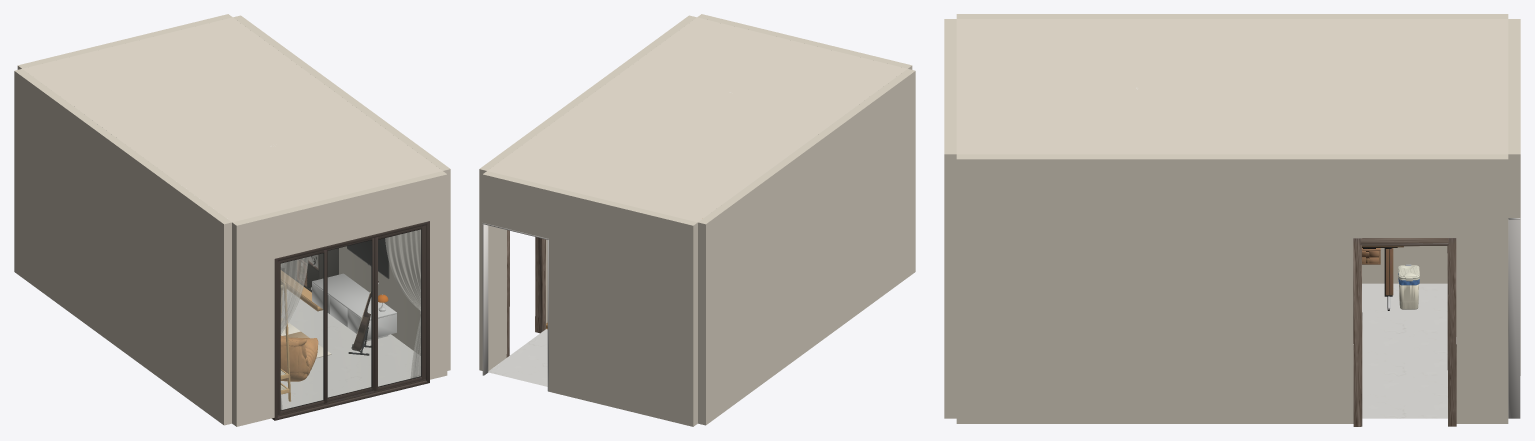
The model's file is living-room.glb.
3 views of the same model, side by side, from view 1: azimuth 30°, elevation 25°; view 2: azimuth 150°, elevation 25°; view 3: azimuth 270°, elevation 25° (orthographic). The views are drawn at different scales.
Visible parts, largest first — view 1: Wall 1, Ceiling, Wall 2, Wall 3, Floor, Part.012, Part.010, Part.009, Part.011, Part, Part.037, Part.038 (+7 smaller); view 2: Wall 1, Ceiling, Wall 4, Wall 3, Floor, Part.021, Part.013, Wall 2; view 3: Wall 3, Ceiling, Floor, Wall 2, Wall 1, Part.013, Wall 4, Part.021, Part.032, Part.006.
Boxes of the visible parts, left/top/right/bottom form: Wall 1: left=14, top=69, right=231, bottom=425; Ceiling: left=22, top=17, right=442, bottom=222; Wall 2: left=232, top=171, right=447, bottom=426; Wall 3: left=233, top=15, right=450, bottom=370; Floor: left=280, top=289, right=420, bottom=409; Part.012: left=272, top=221, right=429, bottom=420; Part.010: left=328, top=240, right=371, bottom=397; Part.009: left=378, top=230, right=420, bottom=386; Part.011: left=281, top=253, right=323, bottom=409; Part: left=312, top=273, right=396, bottom=341; Part.037: left=385, top=229, right=420, bottom=378; Part.038: left=280, top=335, right=318, bottom=381; Wall 1: left=698, top=69, right=915, bottom=425; Ceiling: left=487, top=17, right=907, bottom=222; Wall 4: left=482, top=171, right=697, bottom=426; Wall 3: left=479, top=15, right=696, bottom=370; Floor: left=488, top=329, right=547, bottom=386; Part.021: left=482, top=223, right=548, bottom=391; Part.013: left=506, top=230, right=545, bottom=357; Wall 2: left=697, top=14, right=912, bottom=69; Wall 3: left=956, top=154, right=1508, bottom=423; Ceiling: left=956, top=19, right=1508, bottom=154; Floor: left=1353, top=283, right=1456, bottom=418; Wall 2: left=944, top=19, right=956, bottom=418; Wall 1: left=956, top=14, right=1508, bottom=283; Part.013: left=1353, top=238, right=1456, bottom=426; Wall 4: left=1508, top=19, right=1520, bottom=375; Part.021: left=1508, top=218, right=1520, bottom=418; Part.032: left=1362, top=246, right=1403, bottom=310; Part.006: left=1398, top=264, right=1419, bottom=309.
Bounding box in the file's own units: 3.41 × 2.95 × 5.72.
Materials: 36 (32 with a texture image).
